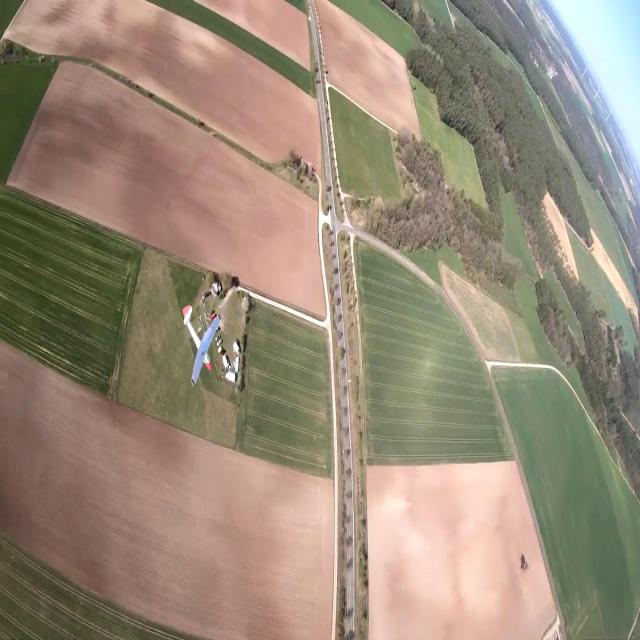iha: (173, 330, 212, 357)
